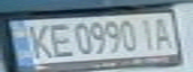0: (69, 19, 93, 56), (121, 16, 142, 52)
9: (87, 19, 109, 55), (103, 18, 124, 54)
A: (148, 14, 175, 50)
E: (42, 20, 75, 58)
I: (136, 15, 160, 51)
K: (21, 20, 57, 61)
